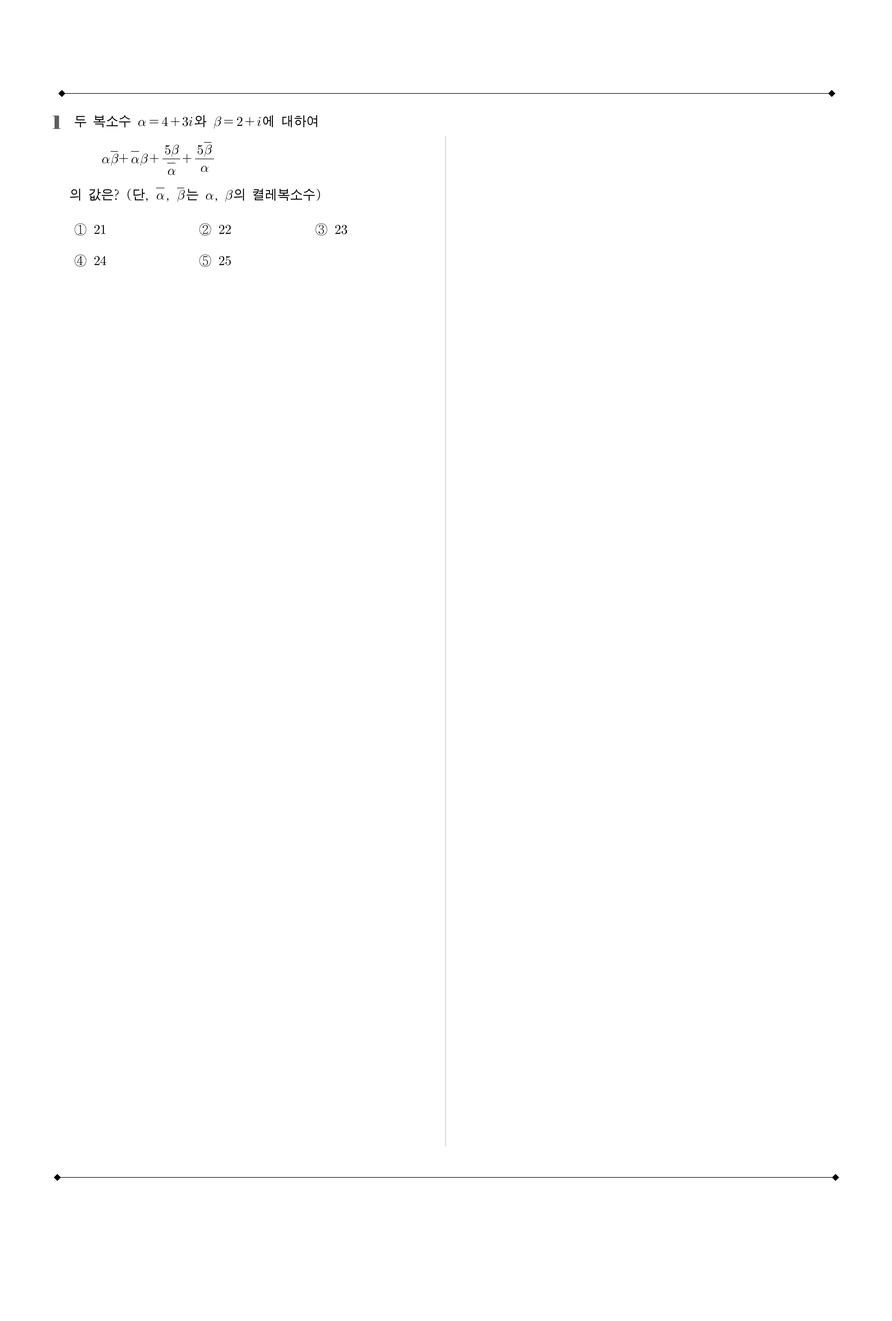problem: (44, 103, 429, 283)
